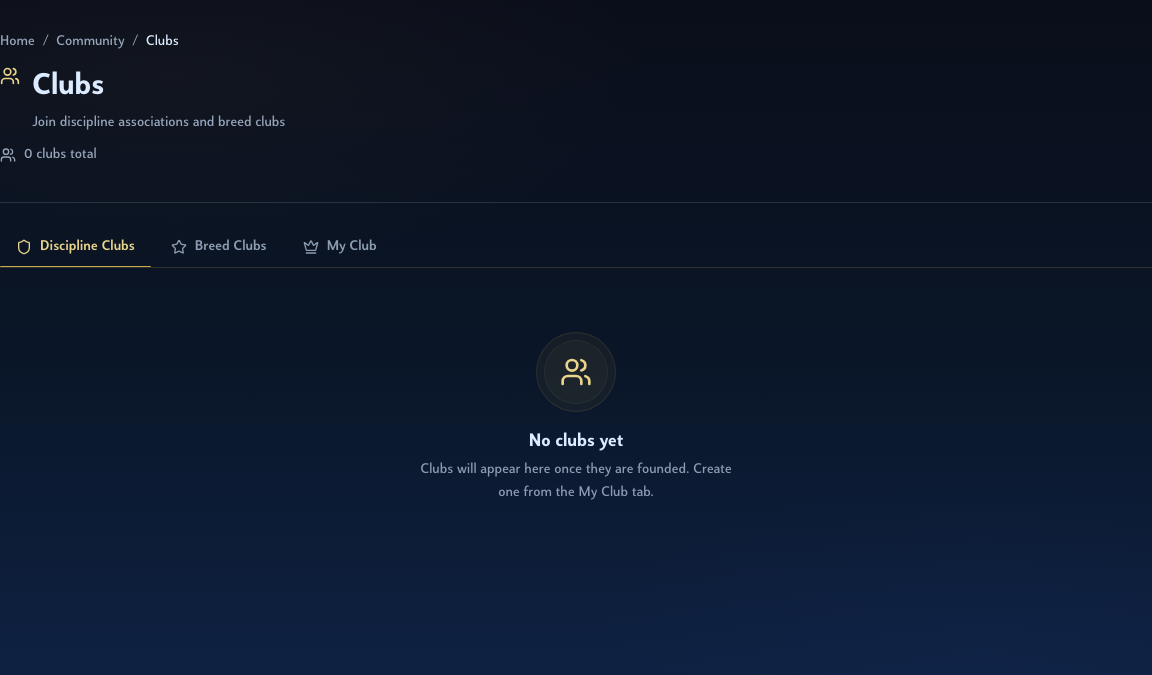
Scenario: ClubsPage paging (Equoria-uob0o) › pages My Clubs by the server cursor too
What coordinates should you click on to do the following:
click the tab with test id "tab-my-club"
I would click on:
 (340, 247)
Its box is [287, 227, 393, 267].
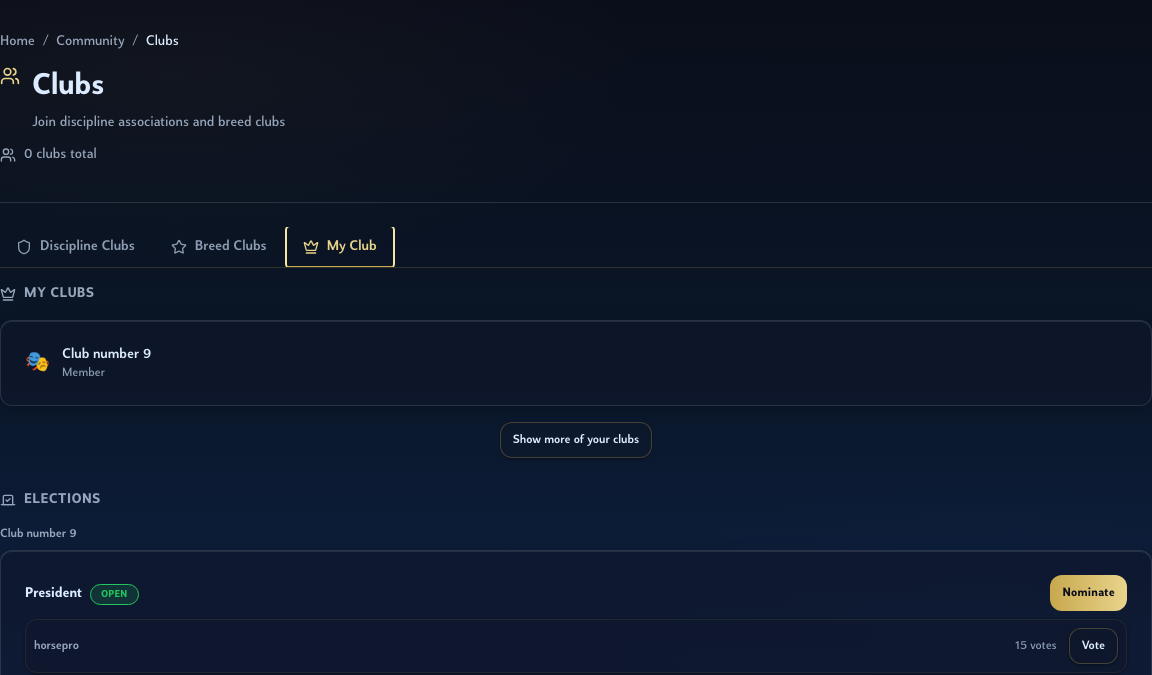
Now the text "Club number 9" below "My Clubs" is shown, box [62, 347, 151, 362]
What coordinates should you click on to do the following:
click the button "Show more of your clubs"
I would click on:
 (576, 440)
Its box is [500, 422, 652, 458].
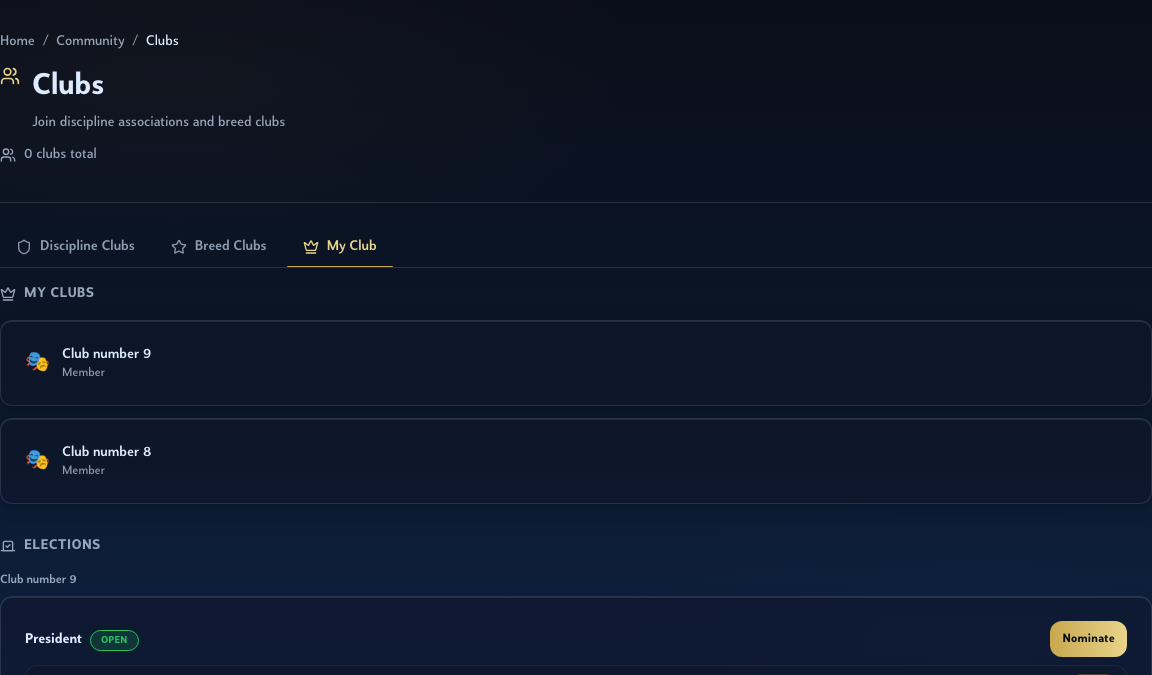
Now the text "Club number 9" below "My Clubs" is shown, box [62, 347, 151, 362]
Now the text "Club number 8" is shown, box [62, 445, 151, 460]
